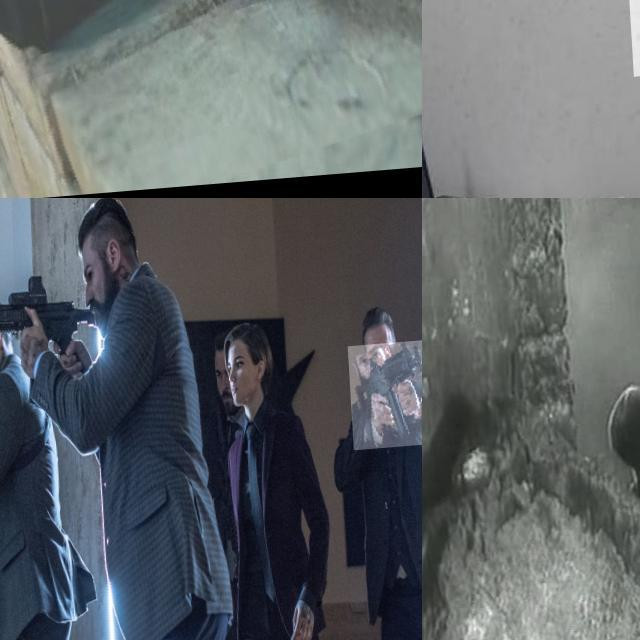gun-knife-thesis - v11 Yolov5 augmented: (0, 0, 422, 198), (0, 273, 96, 378), (345, 350, 422, 459), (0, 356, 65, 464)
